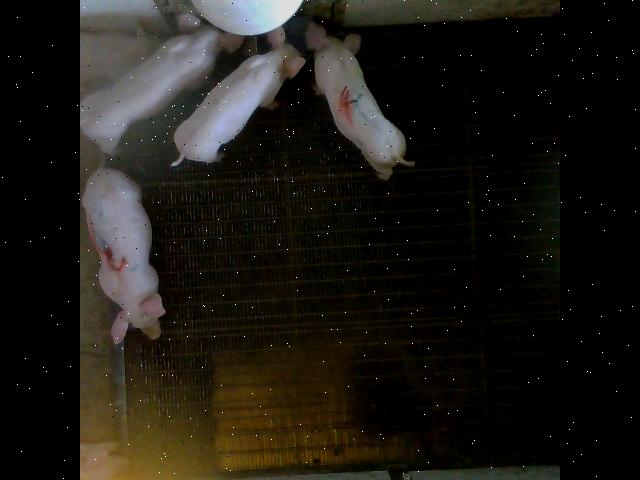pig-3: (83, 168, 165, 341)
pig-4: (306, 21, 414, 179)
